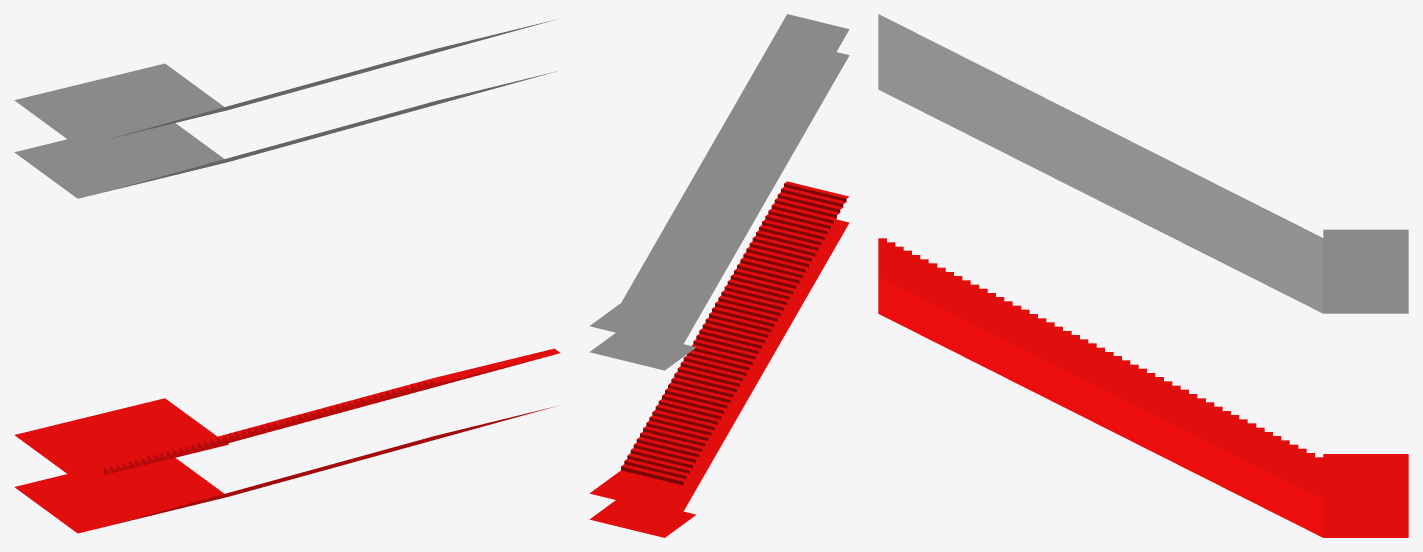
The model's file is FinalMap_Stairs.FBX.
The picture shows the model from 3 angles, left to right: view 1: azimuth 30°, elevation 25°; view 2: azimuth 150°, elevation 25°; view 3: azimuth 270°, elevation 25°; orthographic projection. The views are drawn at different scales.
Visible parts, largest first — view 1: FinalMap_Stairs; view 2: FinalMap_Stairs; view 3: FinalMap_Stairs.
Boxes of the visible parts, x1,y1,x2,y2 form: FinalMap_Stairs: [14, 19, 560, 533]; FinalMap_Stairs: [589, 14, 849, 537]; FinalMap_Stairs: [878, 14, 1408, 537].
Bounding box in the file's own units: 222 × 1016 × 1010.
